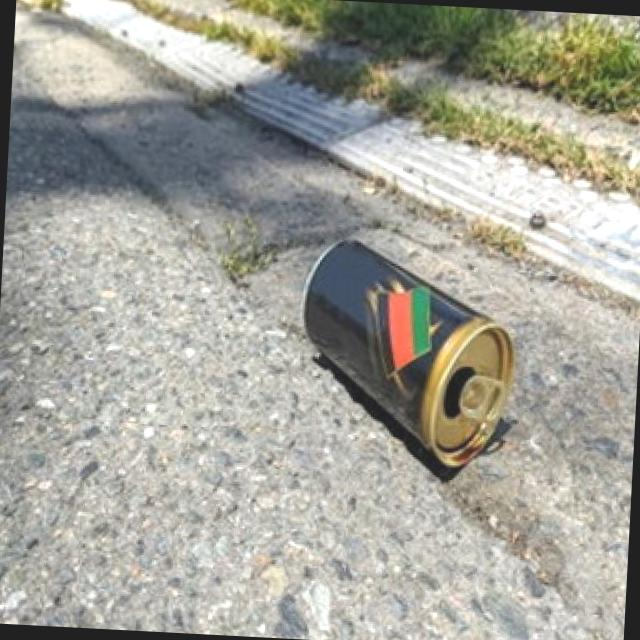can: (291, 230, 522, 477)
